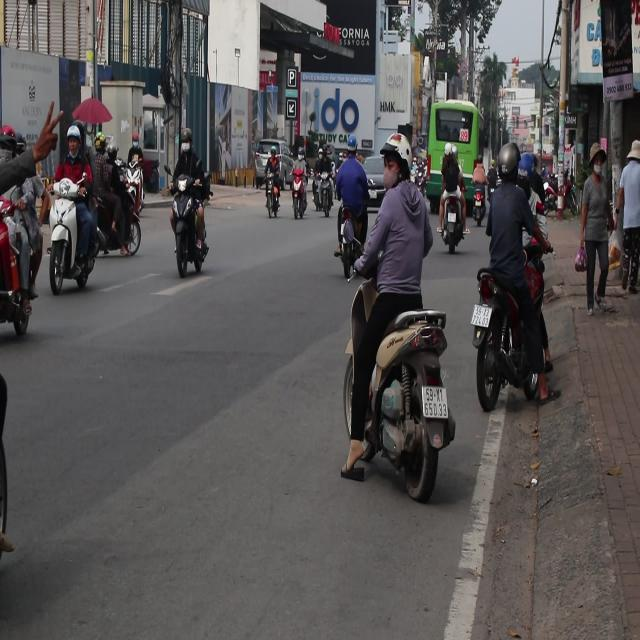bus: (431, 100, 482, 183)
car: (254, 139, 294, 176), (363, 155, 386, 194)
motorbike: (339, 274, 448, 502), (463, 260, 562, 418), (0, 163, 50, 338), (43, 170, 102, 295), (162, 179, 218, 279), (93, 164, 143, 258), (336, 209, 373, 279), (438, 187, 466, 254), (119, 147, 146, 205), (264, 171, 280, 217), (290, 169, 303, 223), (473, 188, 487, 224), (322, 188, 332, 227)
